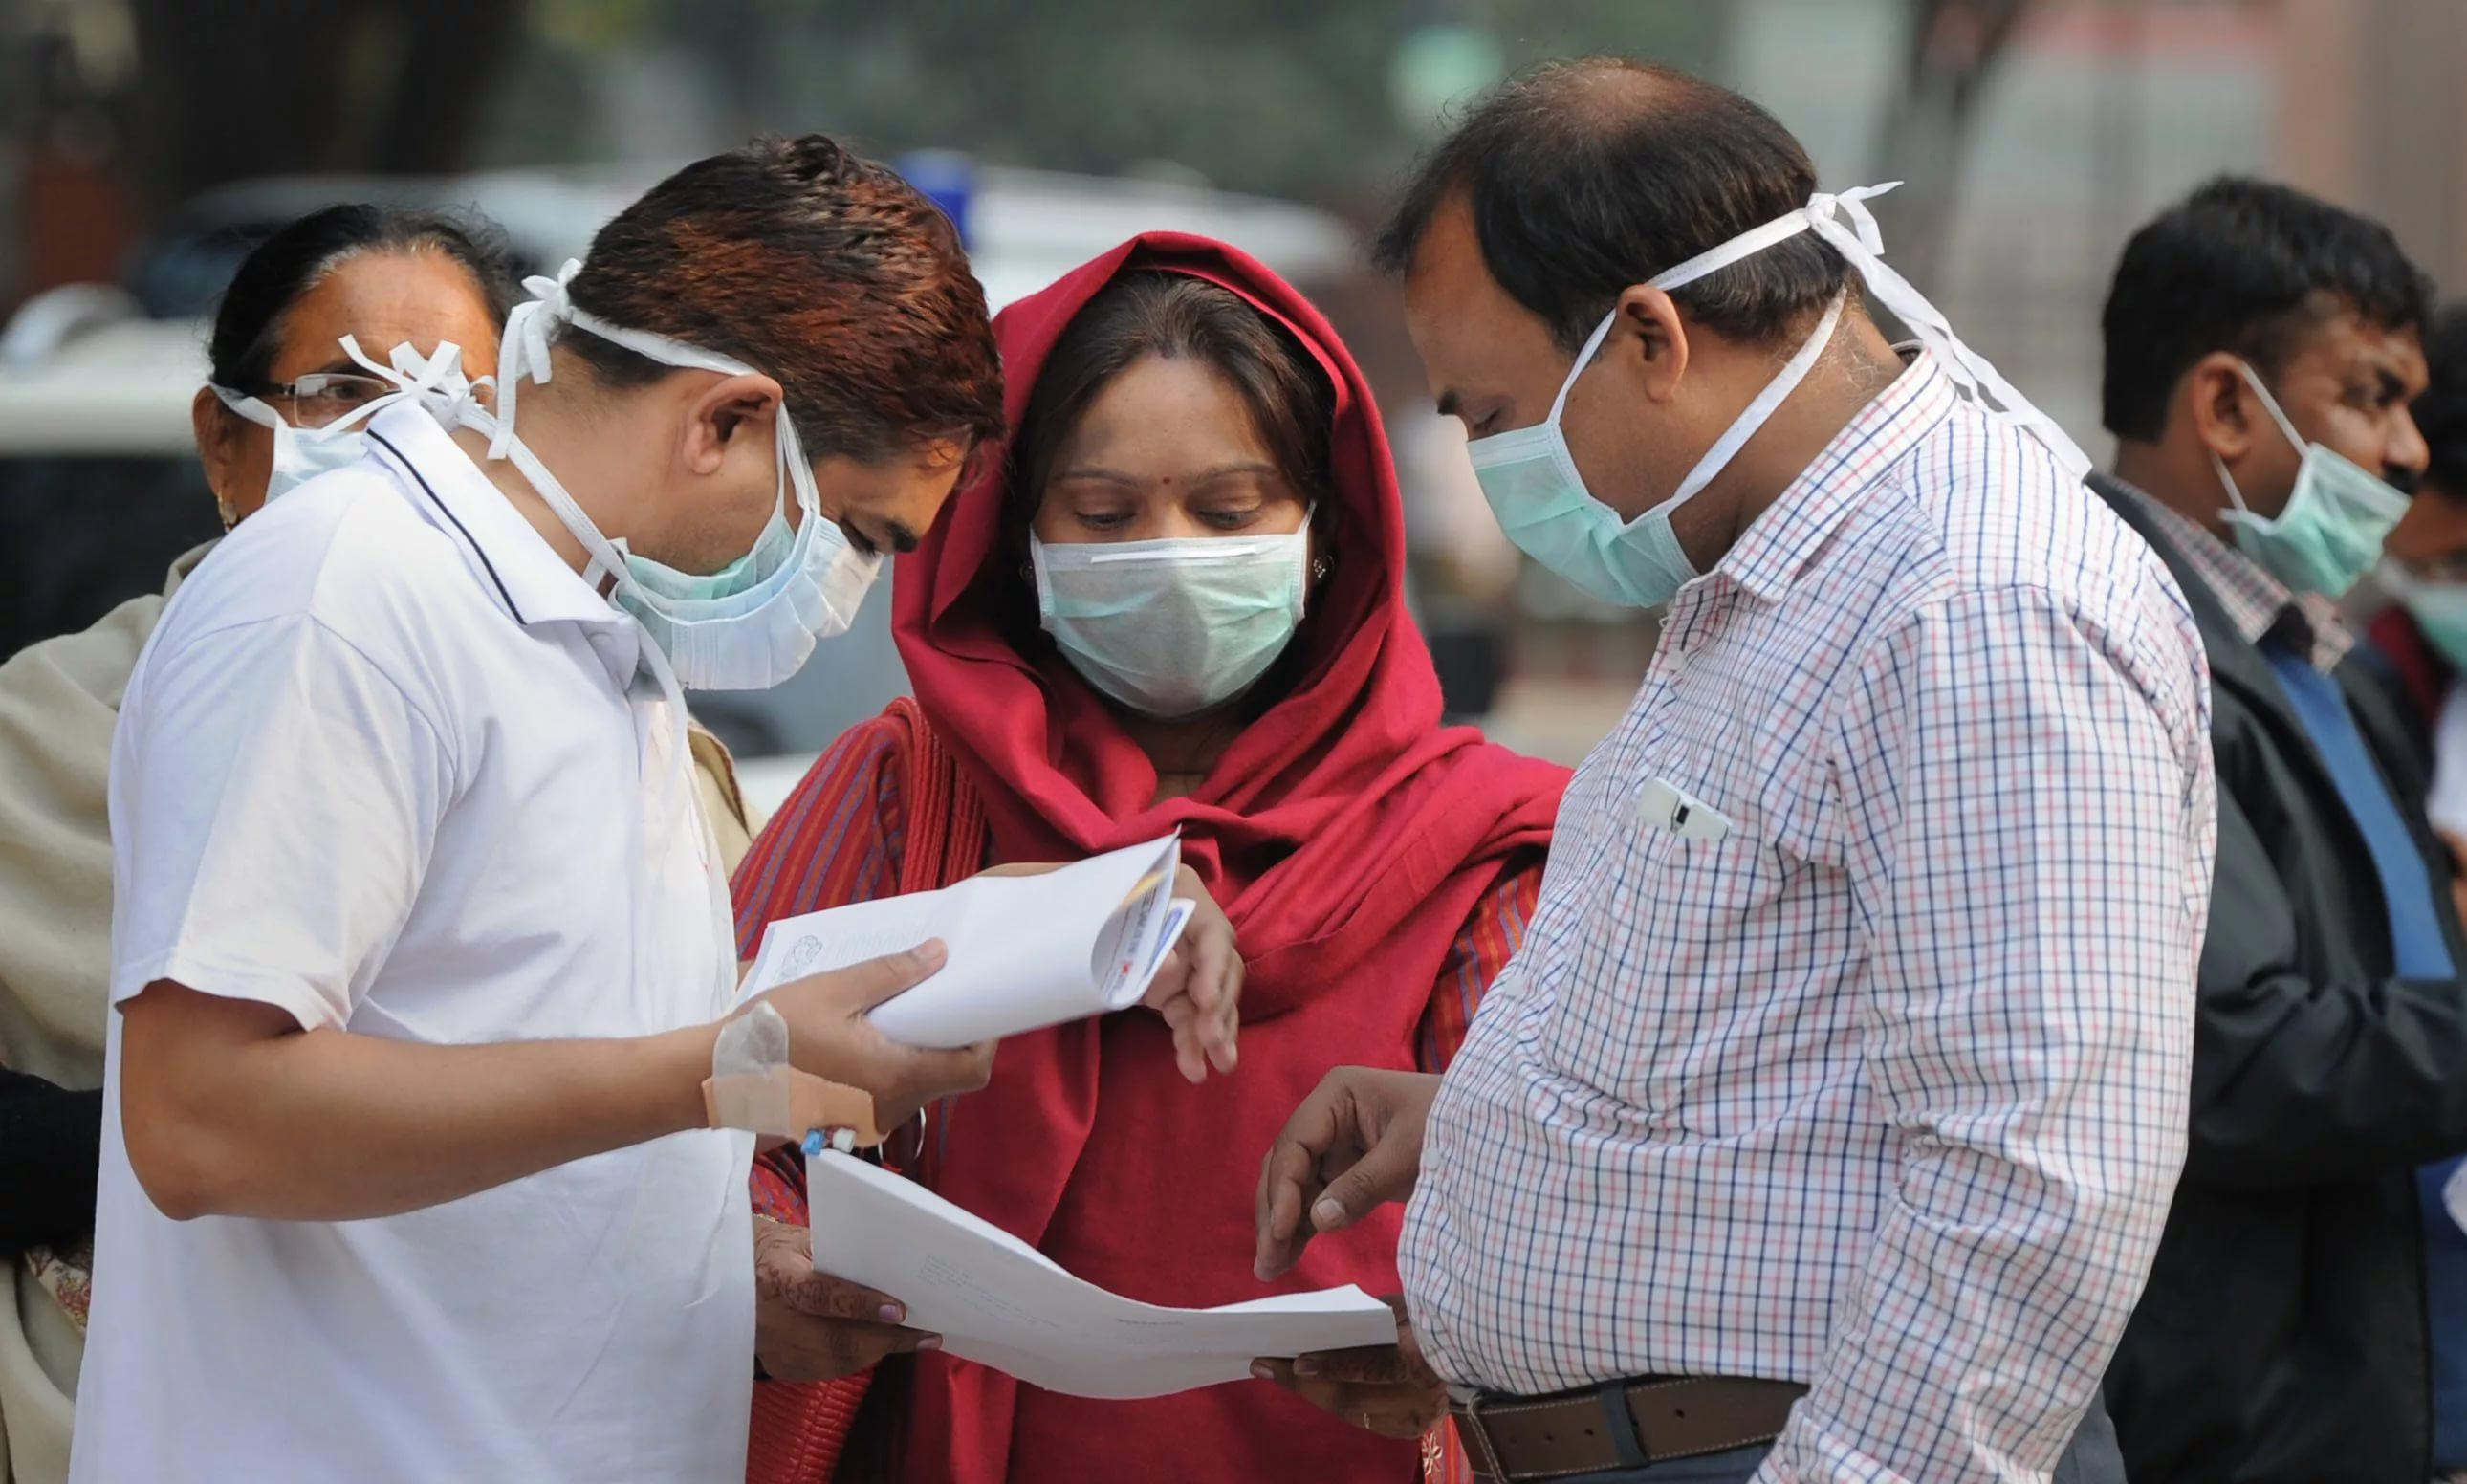mask: (1434, 176, 1759, 631), (620, 335, 915, 694), (1052, 374, 1308, 714)
poor: (2226, 298, 2456, 601)
